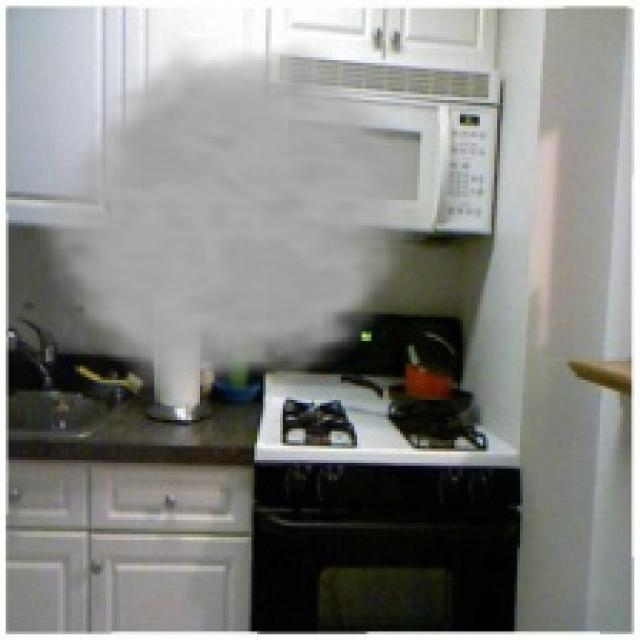smoke: (26, 37, 448, 406)
